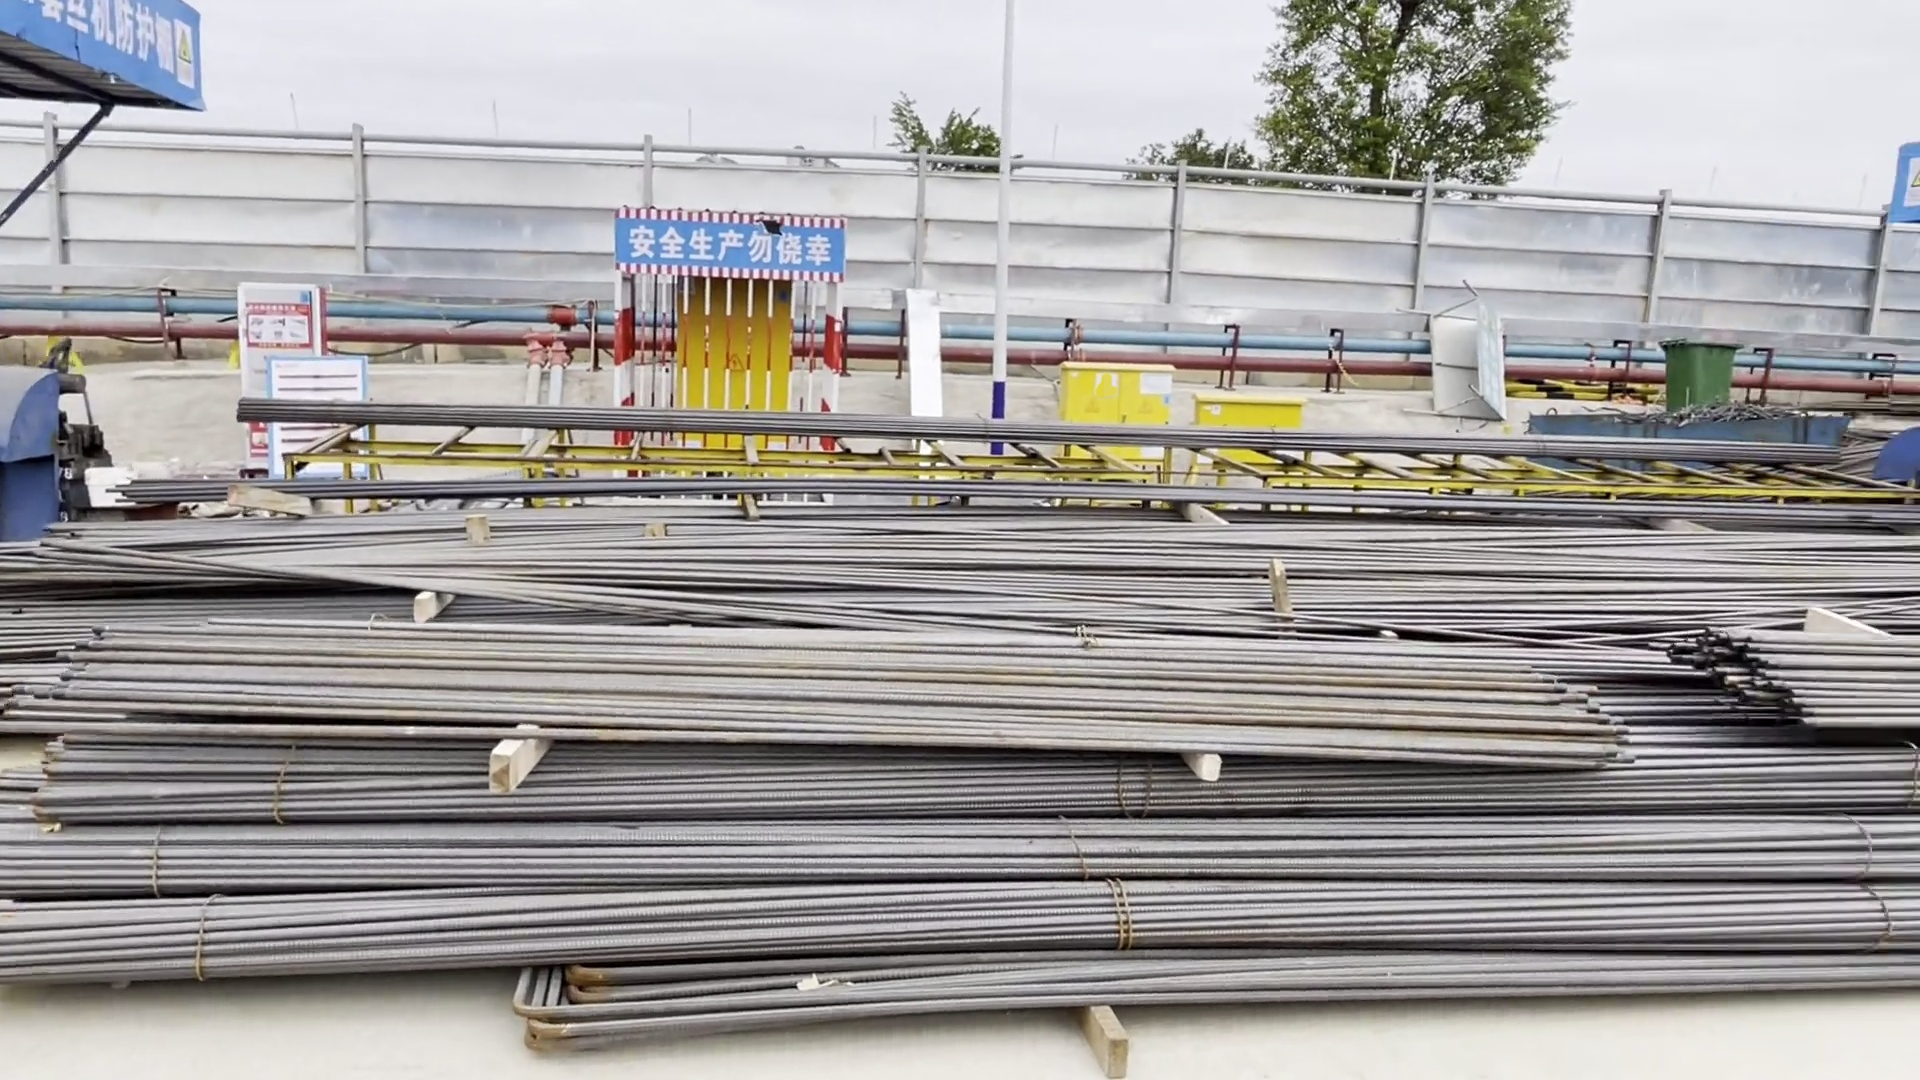ebox: (671, 268, 798, 454), (1059, 357, 1183, 465), (1189, 396, 1311, 460)
fence: (36, 157, 1745, 378)
hopper: (1524, 407, 1844, 471)
rebar: (7, 521, 1920, 996)
slogan: (18, 1, 196, 76), (626, 212, 836, 266)
